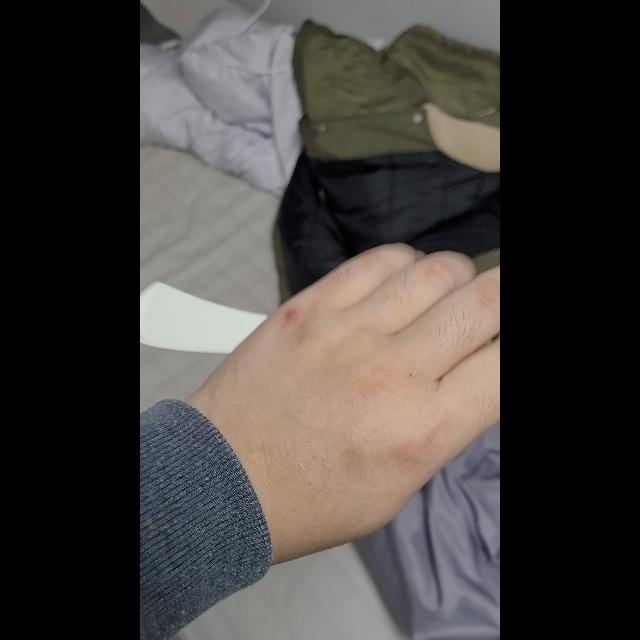COMB: (140, 281, 268, 355)
